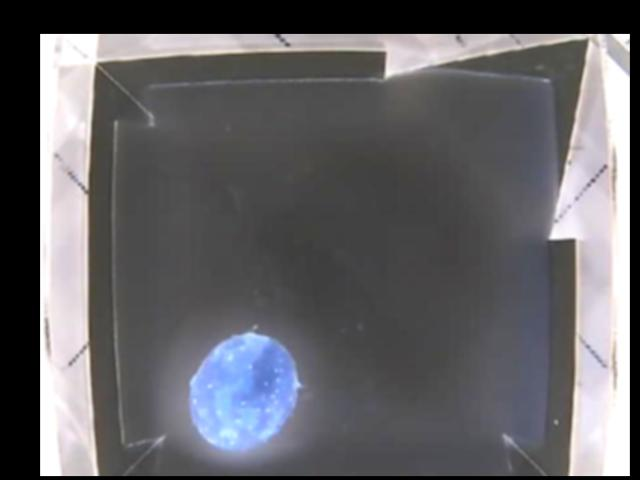Potato: (187, 330, 298, 448)
